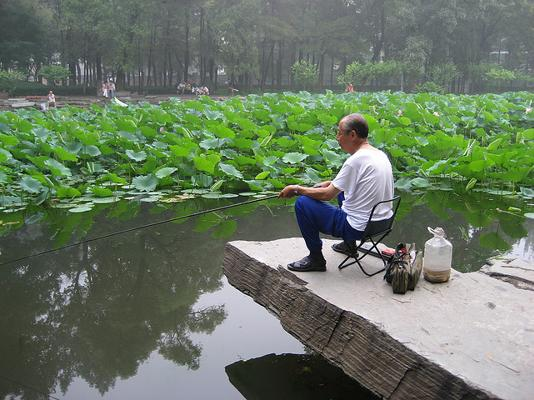person: (279, 113, 396, 273)
